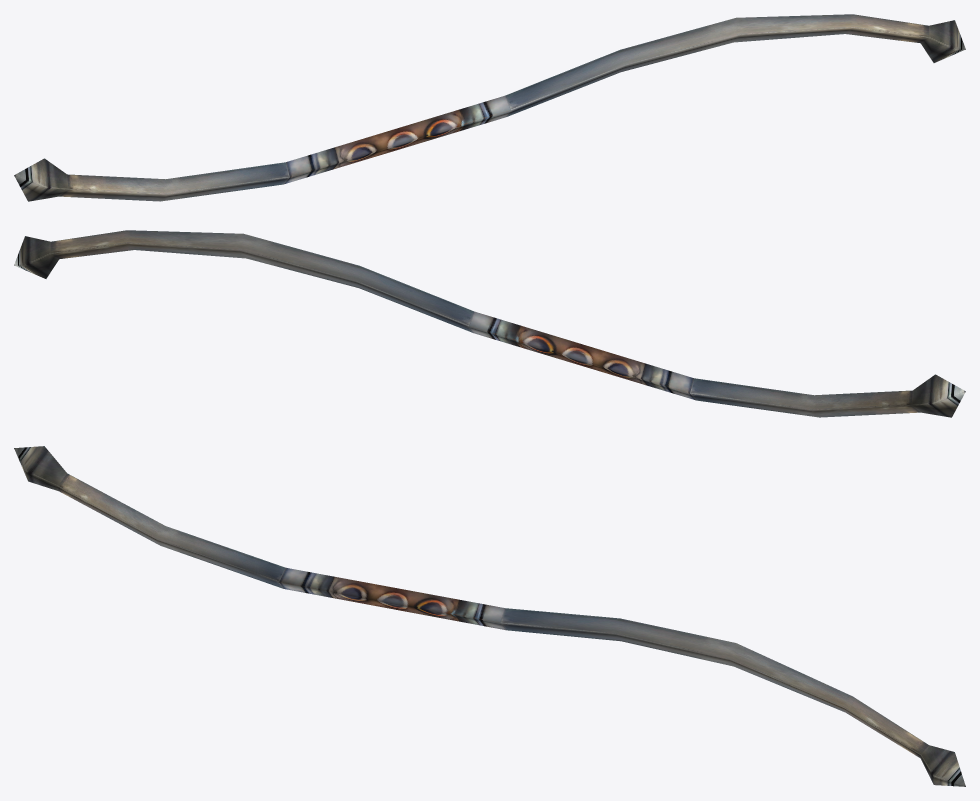
File: humanstaff01.obj
The picture shows the model from 3 angles, top to bottom: view 1: azimuth 30°, elevation 25°; view 2: azimuth 150°, elevation 25°; view 3: azimuth 330°, elevation 25°; orthographic projection.
Visible parts, largest first — view 1: humanstaff01; view 2: humanstaff01; view 3: humanstaff01.
Boxes of the visible parts, x1,y1,x2,y2 form: humanstaff01: (14, 14, 965, 201); humanstaff01: (14, 230, 965, 417); humanstaff01: (14, 446, 965, 786).
Size of the model in its own units: 2.54 by 0.311 by 0.0993.
1 material, 1 textured.
